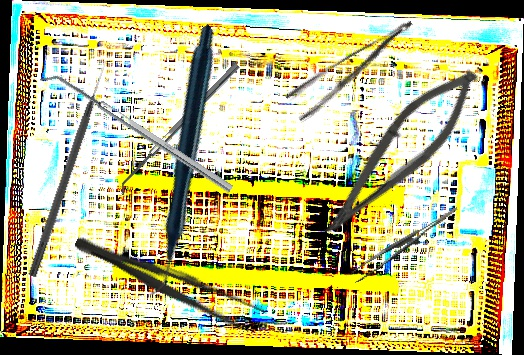Dressing Forceps: (69, 227, 268, 336), (283, 17, 427, 124)
Handpiece: (43, 23, 317, 297)
Hook Surgical: (26, 59, 113, 279)
Micro Scissor: (311, 52, 491, 256)
Spatula Surgical: (39, 65, 234, 201), (114, 62, 245, 197)
Tissue Forceps: (345, 207, 467, 283)
